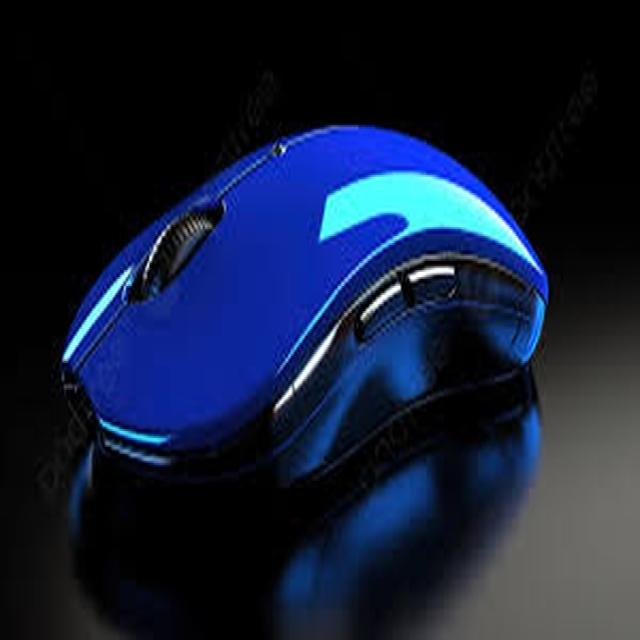mouse: (53, 110, 558, 475)
